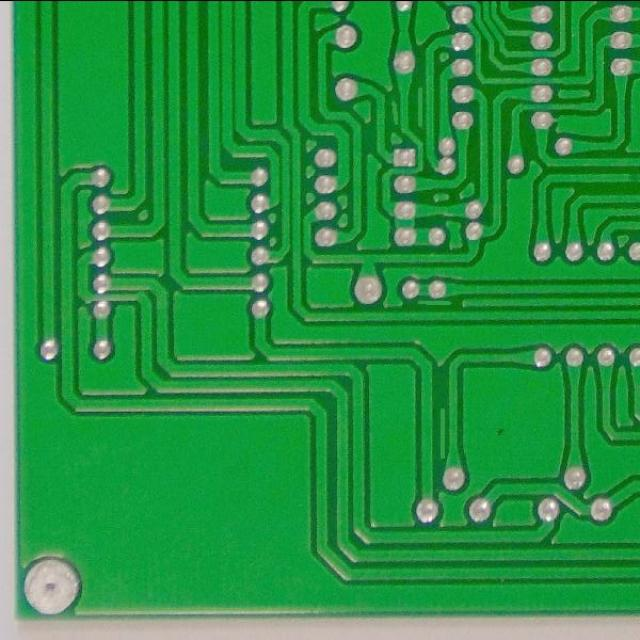spurious_copper: (432, 403, 451, 465), (412, 292, 453, 310), (414, 84, 429, 130), (388, 97, 403, 128)
